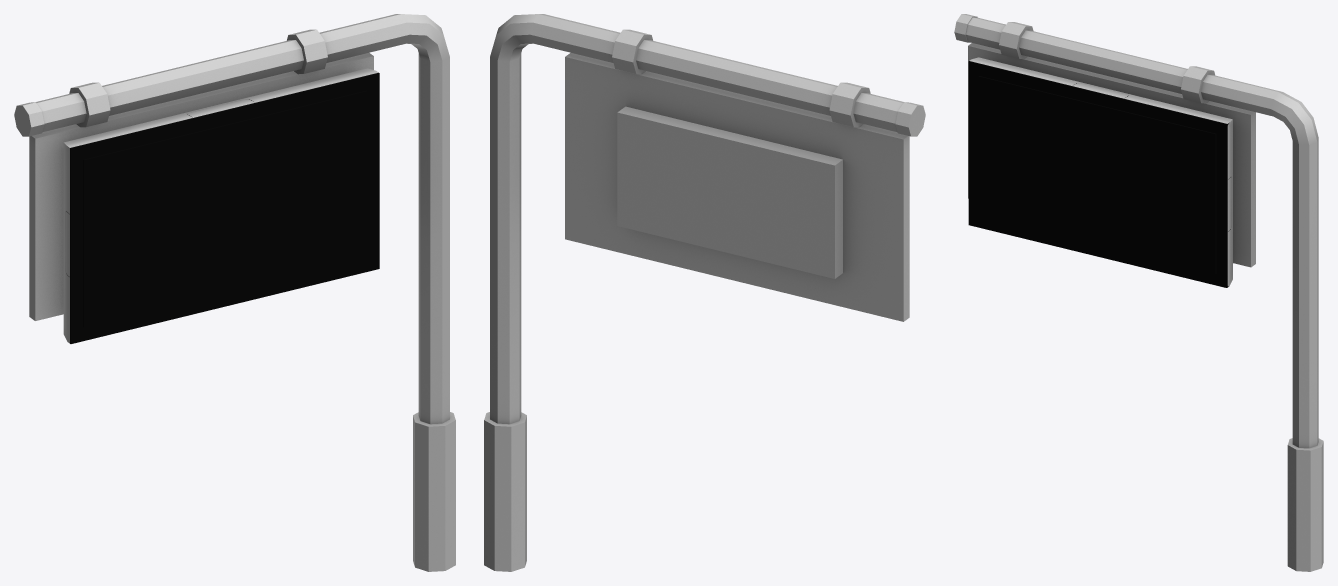
The model's file is UTC_320sar.fbx.
3 renders of one model, left to right at view 1: azimuth 30°, elevation 25°; view 2: azimuth 150°, elevation 25°; view 3: azimuth 330°, elevation 25°, orthographic. The views are drawn at different scales.
Parts seen in each view (by area): view 1: C, E, A, D, B; view 2: D, E; view 3: C, E, A, D, B.
Boxes of the visible parts, x1,y1,x2,y2 form: C: (83, 90, 367, 327); E: (14, 14, 455, 571); A: (70, 72, 379, 343); D: (29, 53, 373, 320); B: (63, 68, 378, 343); D: (565, 53, 909, 321); E: (484, 14, 925, 571); C: (978, 76, 1216, 273); E: (954, 14, 1323, 571); A: (968, 61, 1227, 287); D: (968, 43, 1255, 267); B: (969, 57, 1232, 287).
Bounding box in the file's own units: 72.58 × 90.45 × 9.37.
Materials: 5 (3 with a texture image).
